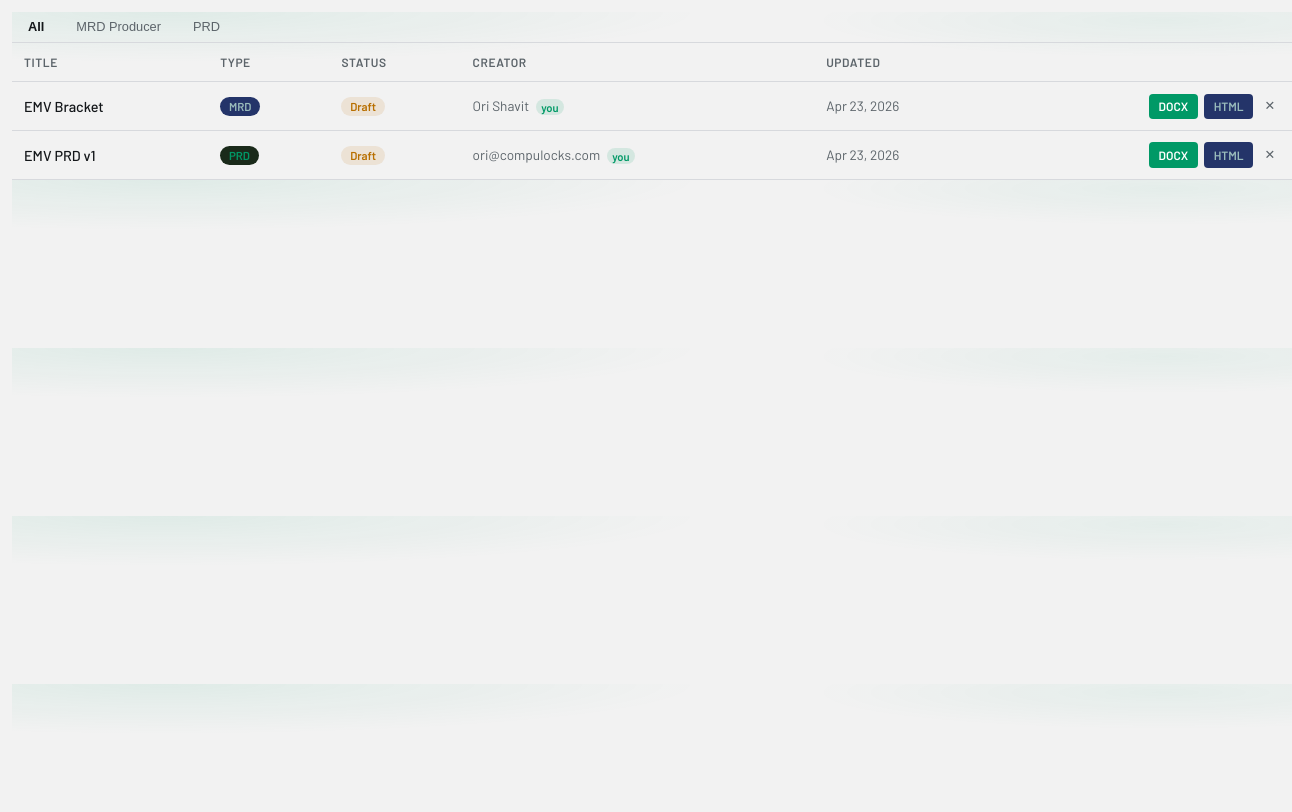
Test case: DocumentsTable › filters to PRD tab
// Click the tab button (first match is the tab, second is the badge)
Click the button "PRD": (206, 27) [177, 12, 236, 42]
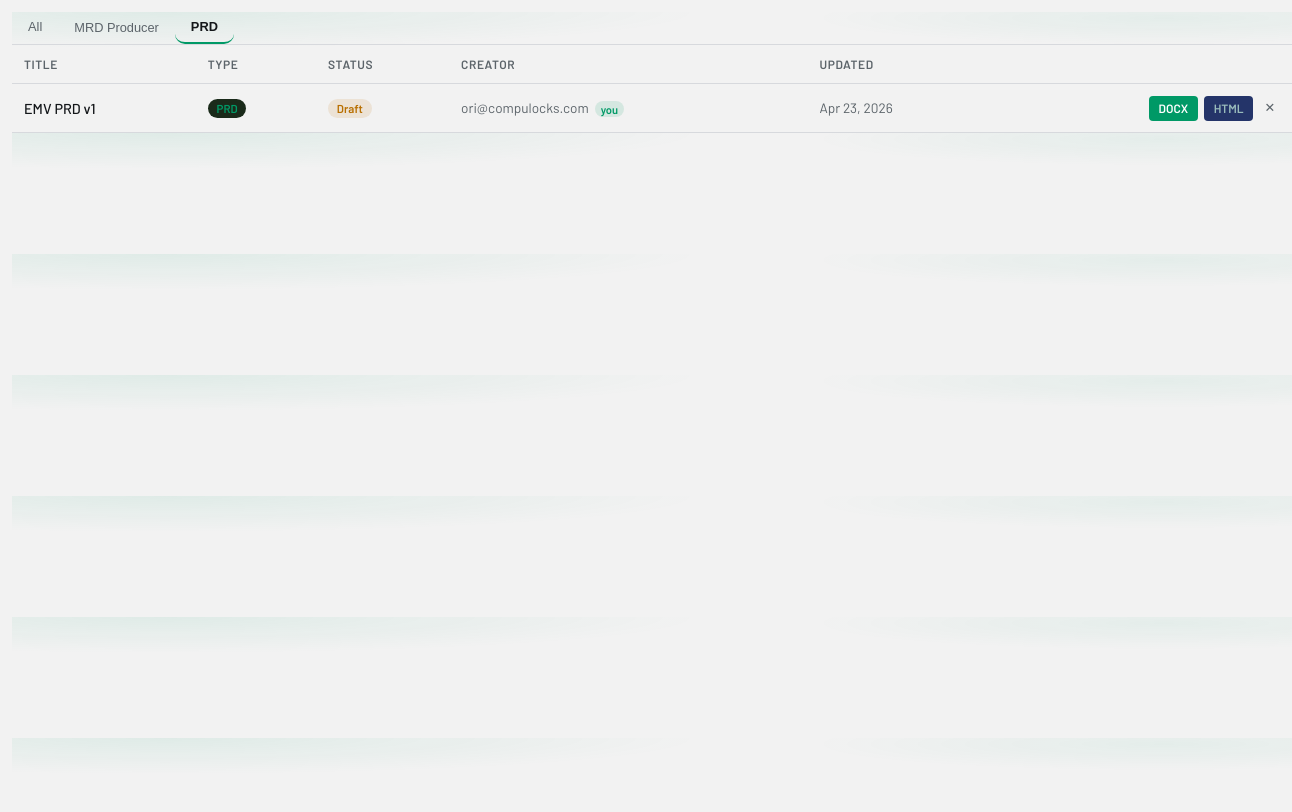
Expected: the text "EMV PRD v1" is shown, [12, 84, 196, 133]
Now the text "EMV Bracket" is gone
